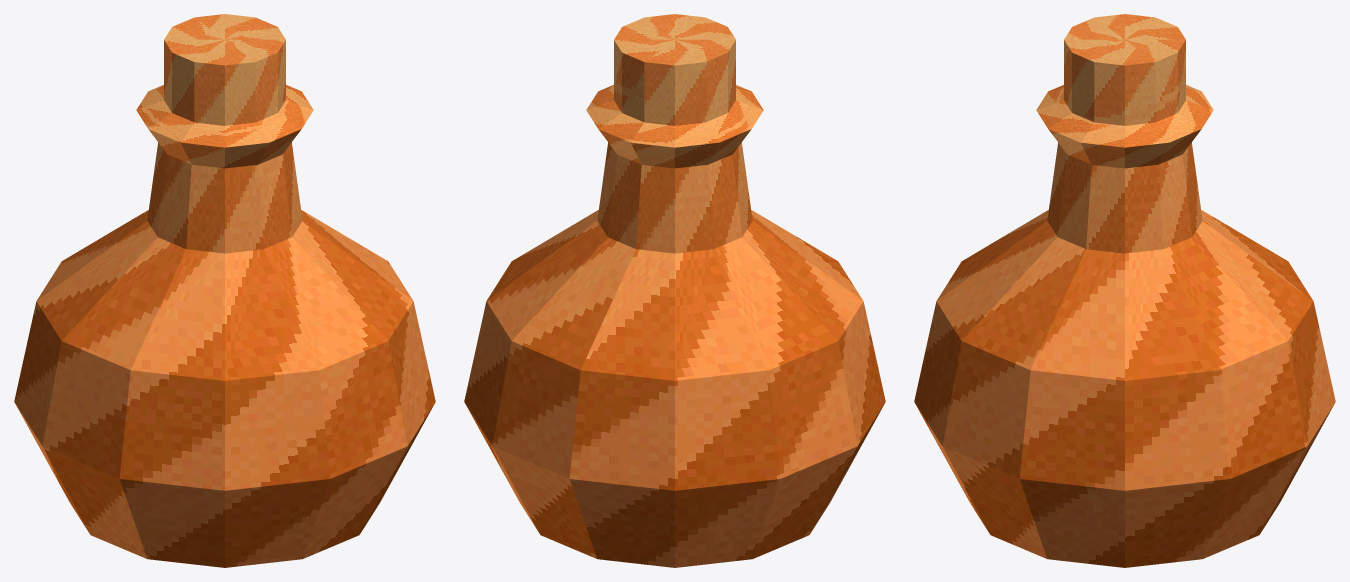
The model's file is pocao_de_calor.glb.
3 views of the same model, side by side, from view 1: azimuth 30°, elevation 25°; view 2: azimuth 150°, elevation 25°; view 3: azimuth 270°, elevation 25° (orthographic).
Parts seen in each view (by area): view 1: pocao_de_calor; view 2: pocao_de_calor; view 3: pocao_de_calor.
Part boxes in pixels (x1=…): pocao_de_calor: x1=14, y1=14, x2=435, y2=567; pocao_de_calor: x1=464, y1=14, x2=885, y2=567; pocao_de_calor: x1=914, y1=14, x2=1335, y2=567.
Bounding box in the file's own units: 0.1824 × 0.2304 × 0.1824.
Materials: 1 (1 with a texture image).
